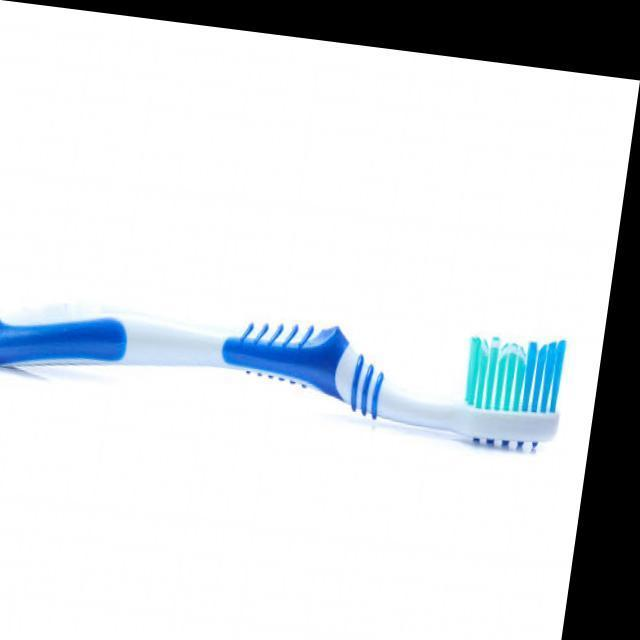toothbrush: (1, 260, 584, 454)
